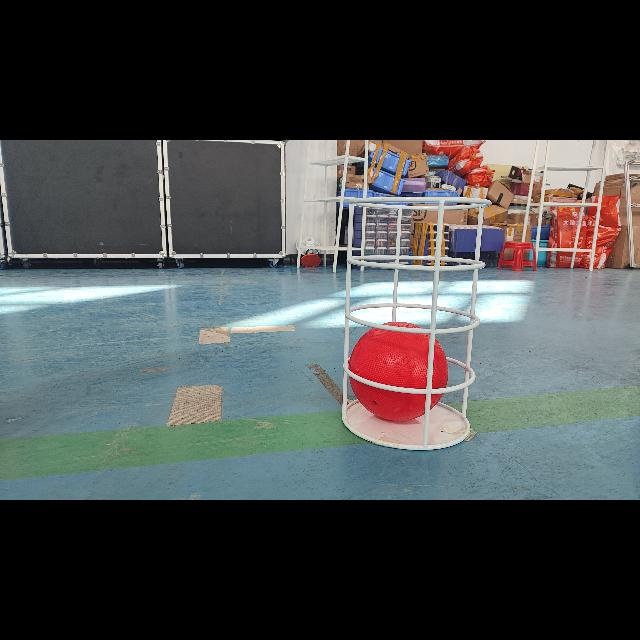R: (348, 322, 448, 422)
S: (335, 194, 493, 453)
